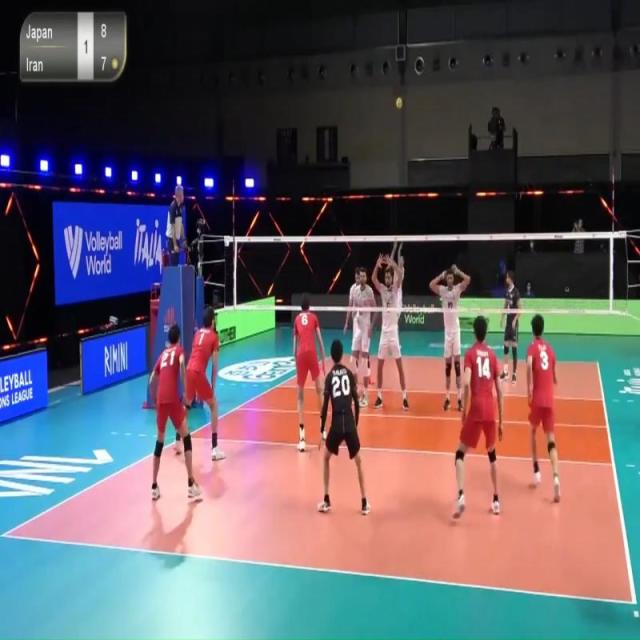volleyball: (396, 97, 404, 110)
